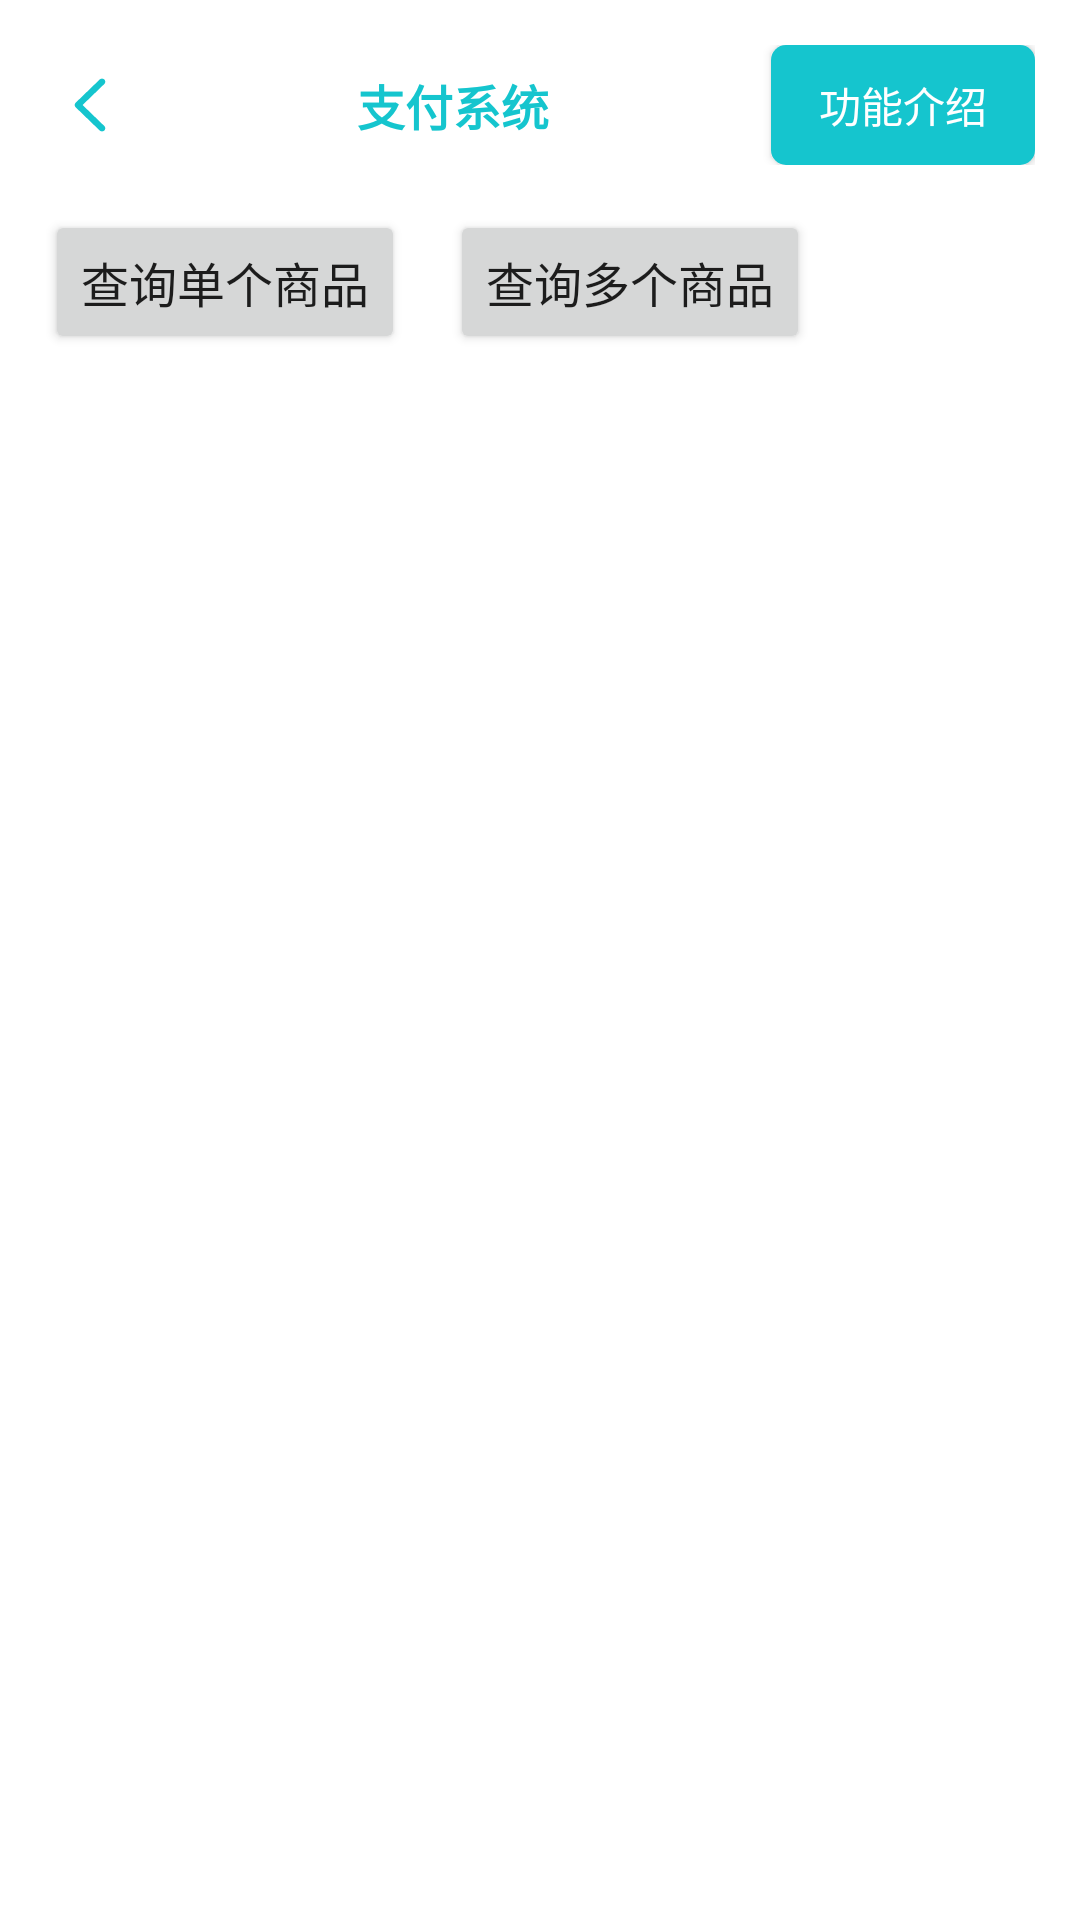

Icons on this 1080w x 1920h Android screen, each with the point to tap as (x,y):
back: (90,105)
